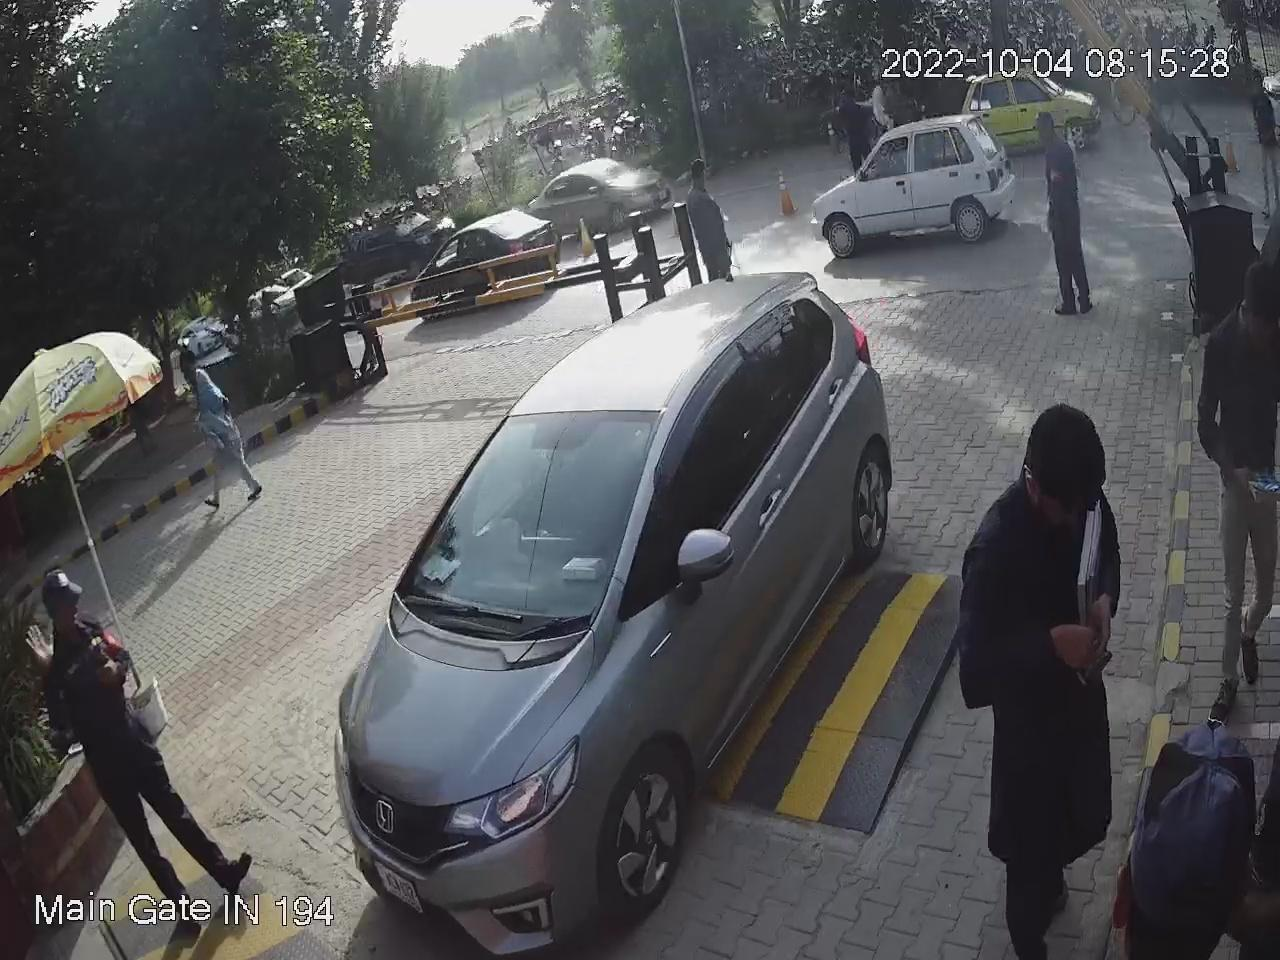windshield: (383, 402, 675, 652)
